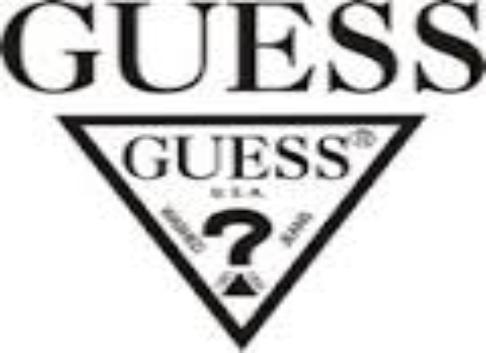GUESS: (56, 103, 445, 353), (4, 3, 481, 91)
